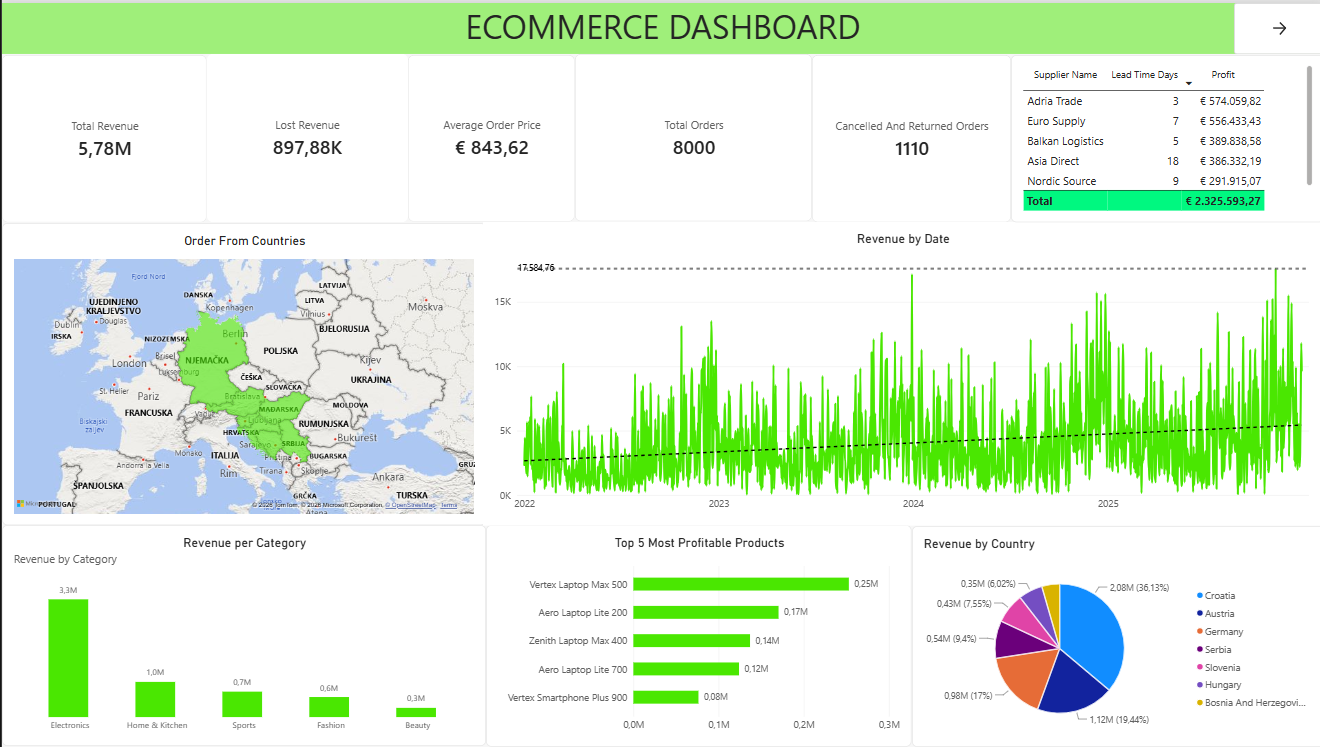

Layout of this report page (visuals, bound fields, positions):
{"tool":"powerbi","page":{"name":"Dashboard","canvas":[1920,1080],"ordinal":0},"visuals":[{"type":"filledMap","title":"Order From Countries","fields":{"Category":["Customers.Country"]},"box":[0,319.5,703.2,439.1],"z":0},{"type":"textbox","box":[0,0,1920,74.4],"z":1000},{"type":"actionButton","box":[1788.7,0,131.3,74.4],"z":2000},{"type":"clusteredColumnChart","title":"Revenue per Category","fields":{"Category":["Products.Category"],"Y":["_Measures (2).Revenue"]},"box":[0,758.7,703.2,321],"z":3000},{"type":"clusteredBarChart","title":"Top 5 Most Profitable Products","fields":{"Category":["Products.Product_Name"],"Y":["Order_Items.Profit"]},"box":[703.3,758.3,618.3,321.7],"z":4000},{"type":"cardVisual","fields":{"Data":["Orders.Lost_revenue"]},"box":[297.1,74.3,292.9,244.3],"z":5000},{"type":"cardVisual","fields":{"Data":["Orders.Revenue"]},"box":[0,75.5,297.7,244],"z":6000},{"type":"cardVisual","fields":{"Data":["_Measures (2).TotalOrders"]},"box":[832.2,74.1,344.2,244],"z":7000},{"type":"cardVisual","fields":{"Data":["_Measures (2).CancelledAndReturned"]},"box":[1176.4,75.5,289,244],"z":8000},{"type":"lineChart","fields":{"Category":["Calendar.Date"],"Y":["_Measures (2).Revenue"]},"box":[698.8,318.1,1221.2,440.6],"z":9000},{"type":"tableEx","fields":{"Values":["Suppliers.Supplier_Name","Suppliers.Lead_Time_Days","_Measures (2).Profit"]},"box":[1465.4,75.5,454.6,242.5],"z":10000},{"type":"cardVisual","fields":{"Data":["_Measures (2).avgorder"]},"box":[590,75.7,242.9,242.9],"z":11000},{"type":"pieChart","fields":{"Category":["Customers.Country"],"Y":["_Measures (2).Revenue"]},"box":[1321,759,599,321],"z":12000}]}

Visuals, with their boxes in screenshot pixels (x1, y1, x2, y2), scaled from the page's 1920x1080 canvas onto the 1320x747 screenshot:
"Order From Countries" filledMap: <bbox>0, 221, 483, 525</bbox>
textbox: <bbox>0, 0, 1319, 51</bbox>
actionButton: <bbox>1230, 0, 1319, 51</bbox>
"Revenue per Category" clusteredColumnChart: <bbox>0, 525, 483, 746</bbox>
"Top 5 Most Profitable Products" clusteredBarChart: <bbox>484, 524, 909, 746</bbox>
cardVisual - Orders.Lost_revenue: <bbox>204, 51, 406, 220</bbox>
cardVisual - Orders.Revenue: <bbox>0, 52, 205, 221</bbox>
cardVisual - _Measures (2).TotalOrders: <bbox>572, 51, 809, 220</bbox>
cardVisual - _Measures (2).CancelledAndReturned: <bbox>809, 52, 1007, 221</bbox>
lineChart - Calendar.Date x _Measures (2).Revenue: <bbox>480, 220, 1319, 525</bbox>
tableEx - Suppliers.Supplier_Name x Suppliers.Lead_Time_Days: <bbox>1007, 52, 1319, 220</bbox>
cardVisual - _Measures (2).avgorder: <bbox>406, 52, 573, 220</bbox>
pieChart - Customers.Country x _Measures (2).Revenue: <bbox>908, 525, 1319, 746</bbox>
